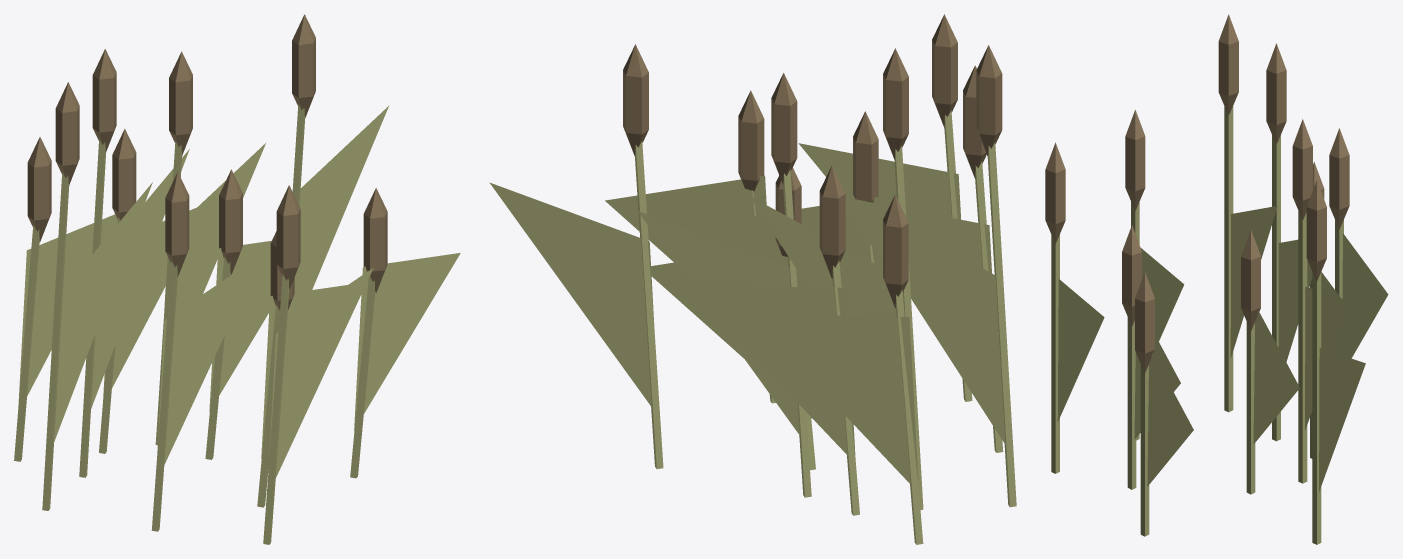
File: sunland_reeds.glb
The picture shows the model from 3 angles, left to right: view 1: azimuth 30°, elevation 25°; view 2: azimuth 150°, elevation 25°; view 3: azimuth 270°, elevation 25°; orthographic projection. The views are drawn at different scales.
Visible parts, largest first — view 1: sunland_reeds_reed, sunland_reeds_reed_head; view 2: sunland_reeds_reed, sunland_reeds_reed_head; view 3: sunland_reeds_reed, sunland_reeds_reed_head.
Boxes of the visible parts, x1,y1,x2,y2 form: sunland_reeds_reed: [14, 104, 460, 544]; sunland_reeds_reed_head: [27, 14, 387, 310]; sunland_reeds_reed: [489, 110, 1016, 544]; sunland_reeds_reed_head: [623, 14, 1002, 307]; sunland_reeds_reed: [1051, 106, 1388, 544]; sunland_reeds_reed_head: [1045, 14, 1349, 372].
Bounding box in the file's own units: 1.9 × 1.83 × 1.4.
